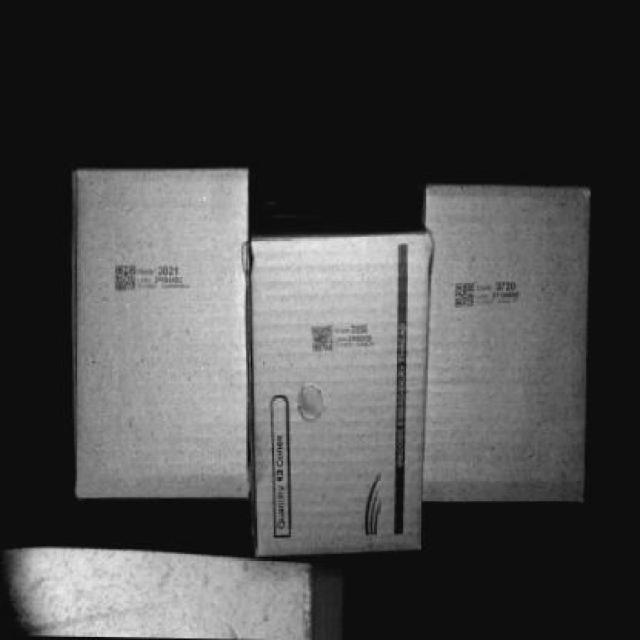cardboxes: (66, 171, 256, 497), (246, 240, 426, 554), (426, 183, 596, 500)
